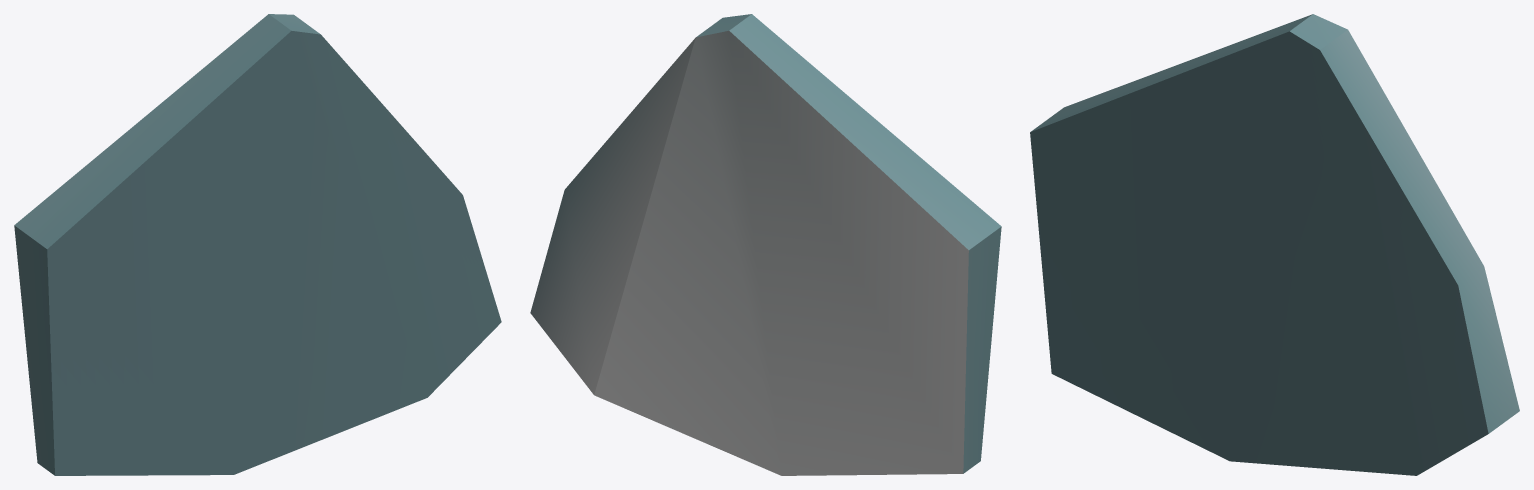
The model's file is IceDrift.008.glb.
The picture shows the model from 3 angles, left to right: view 1: azimuth 30°, elevation 25°; view 2: azimuth 150°, elevation 25°; view 3: azimuth 330°, elevation 25°; orthographic projection. The views are drawn at different scales.
Visible parts, largest first — view 1: IceDrift.008; view 2: IceDrift.008; view 3: IceDrift.008.
Boxes of the visible parts, left/top/right/bottom form: IceDrift.008: left=14, top=14, right=501, bottom=475; IceDrift.008: left=530, top=14, right=1001, bottom=475; IceDrift.008: left=1030, top=14, right=1519, bottom=475.
Size of the model in its own units: 288 by 263 by 42.54.
